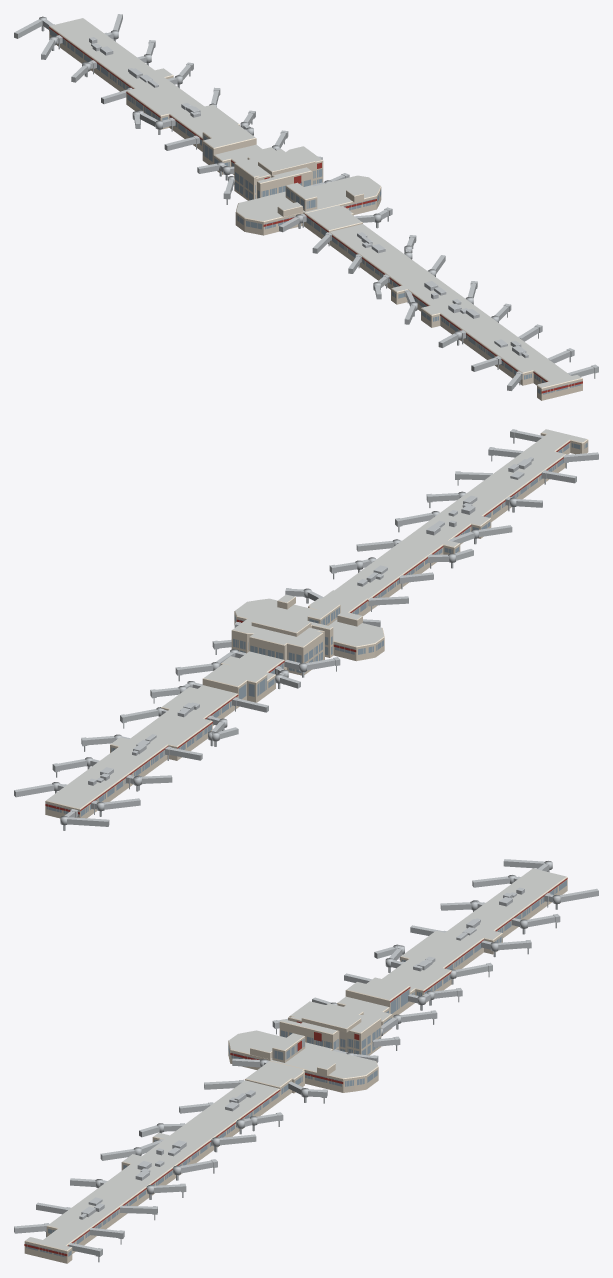
Rendered from atl-hartsfield-jackson-concourse-b.detail.glb.
The picture shows the model from 3 angles, top to bottom: view 1: azimuth 30°, elevation 25°; view 2: azimuth 150°, elevation 25°; view 3: azimuth 330°, elevation 25°; orthographic projection. The views are drawn at different scales.
Parts seen in each view (by area): view 1: Hartsfield-Jackson Concourse B; view 2: Hartsfield-Jackson Concourse B; view 3: Hartsfield-Jackson Concourse B.
Boxes of the visible parts, x1,y1,x2,y2 form: Hartsfield-Jackson Concourse B: (14,14,598,400); Hartsfield-Jackson Concourse B: (14,429,598,830); Hartsfield-Jackson Concourse B: (14,859,598,1263).
Size of the model in its own units: 112 by 25 by 722.
